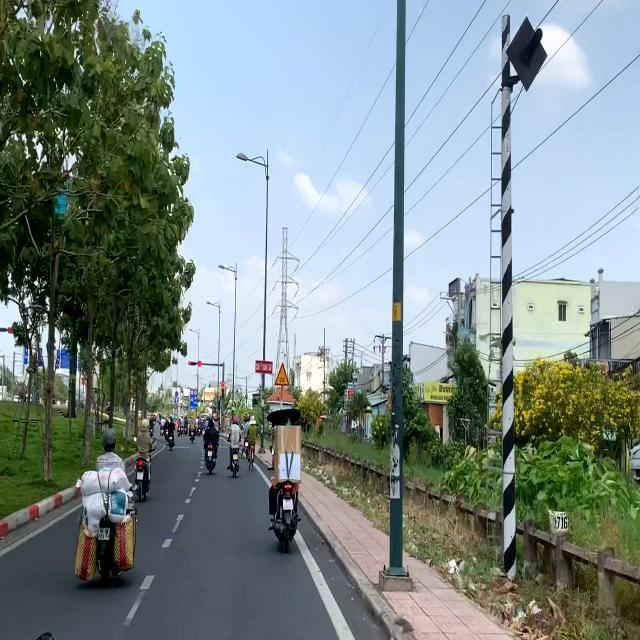Giao nhau voi duong sat co rao chan: (274, 362, 290, 387)
